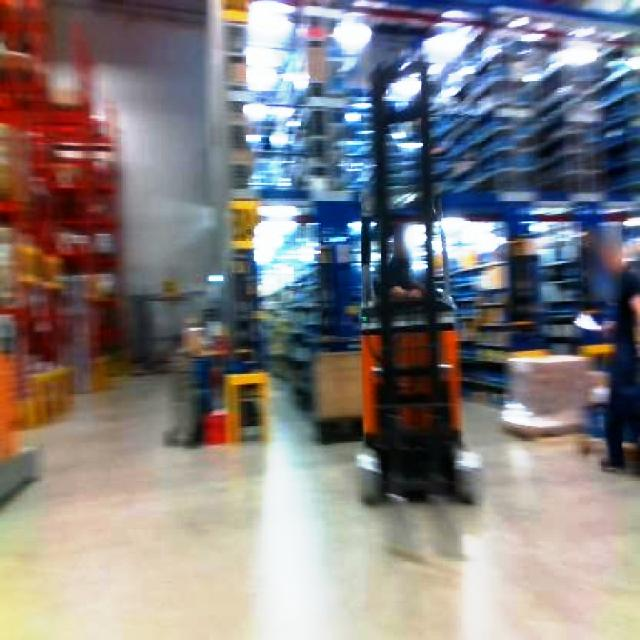ground: (0, 365, 638, 638)
pallet: (354, 55, 477, 506), (354, 297, 477, 506), (360, 323, 462, 445), (500, 351, 592, 438), (577, 369, 638, 471), (309, 348, 363, 443), (220, 369, 271, 443), (18, 363, 75, 426)
